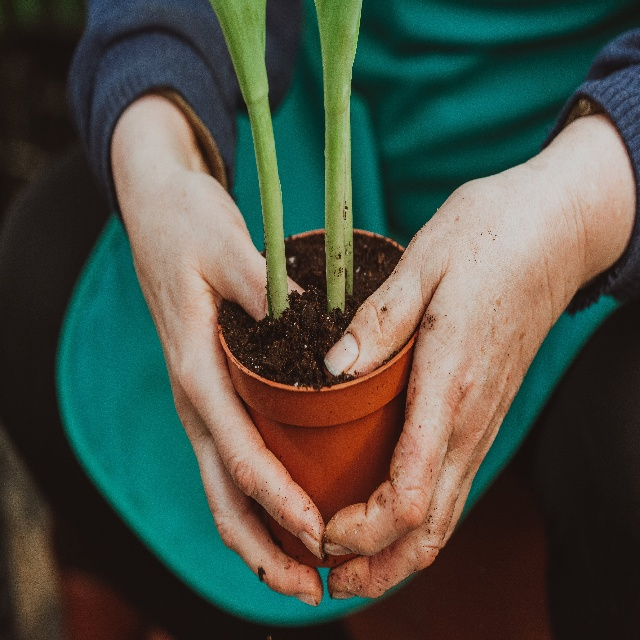Sin_guantes: (309, 182, 581, 599), (126, 175, 323, 592)
